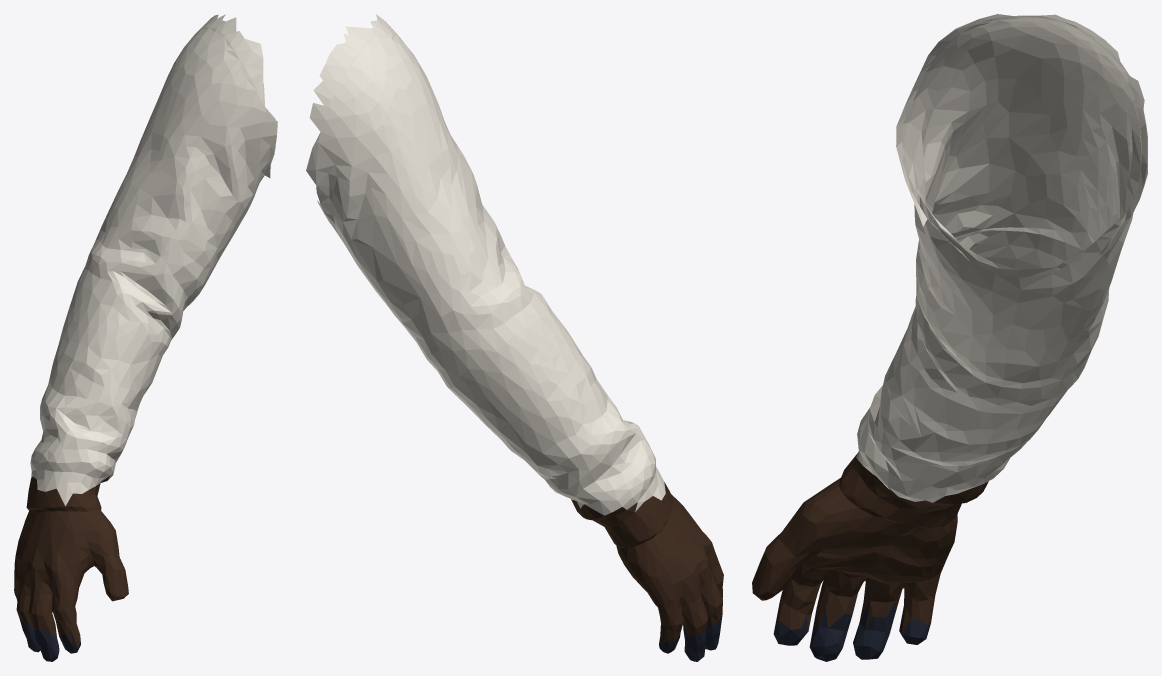
File: prof_boss_arm_r.obj
3 renders of one model, left to right at view 1: azimuth 30°, elevation 25°; view 2: azimuth 150°, elevation 25°; view 3: azimuth 270°, elevation 25°, orthographic. The views are drawn at different scales.
Visible parts, largest first — view 1: BossProf.001; view 2: BossProf.001; view 3: BossProf.001.
Part boxes in pixels (x1,y1,x2,y2): BossProf.001: (14, 14, 277, 661); BossProf.001: (306, 14, 723, 661); BossProf.001: (752, 14, 1147, 661).
Bounding box in the file's own units: 0.5155 × 0.9823 × 0.4207.
